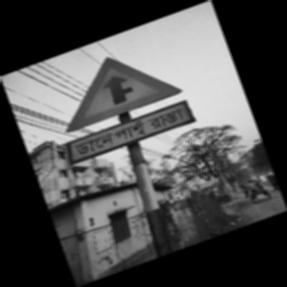Side-road-right: (64, 57, 190, 237)
